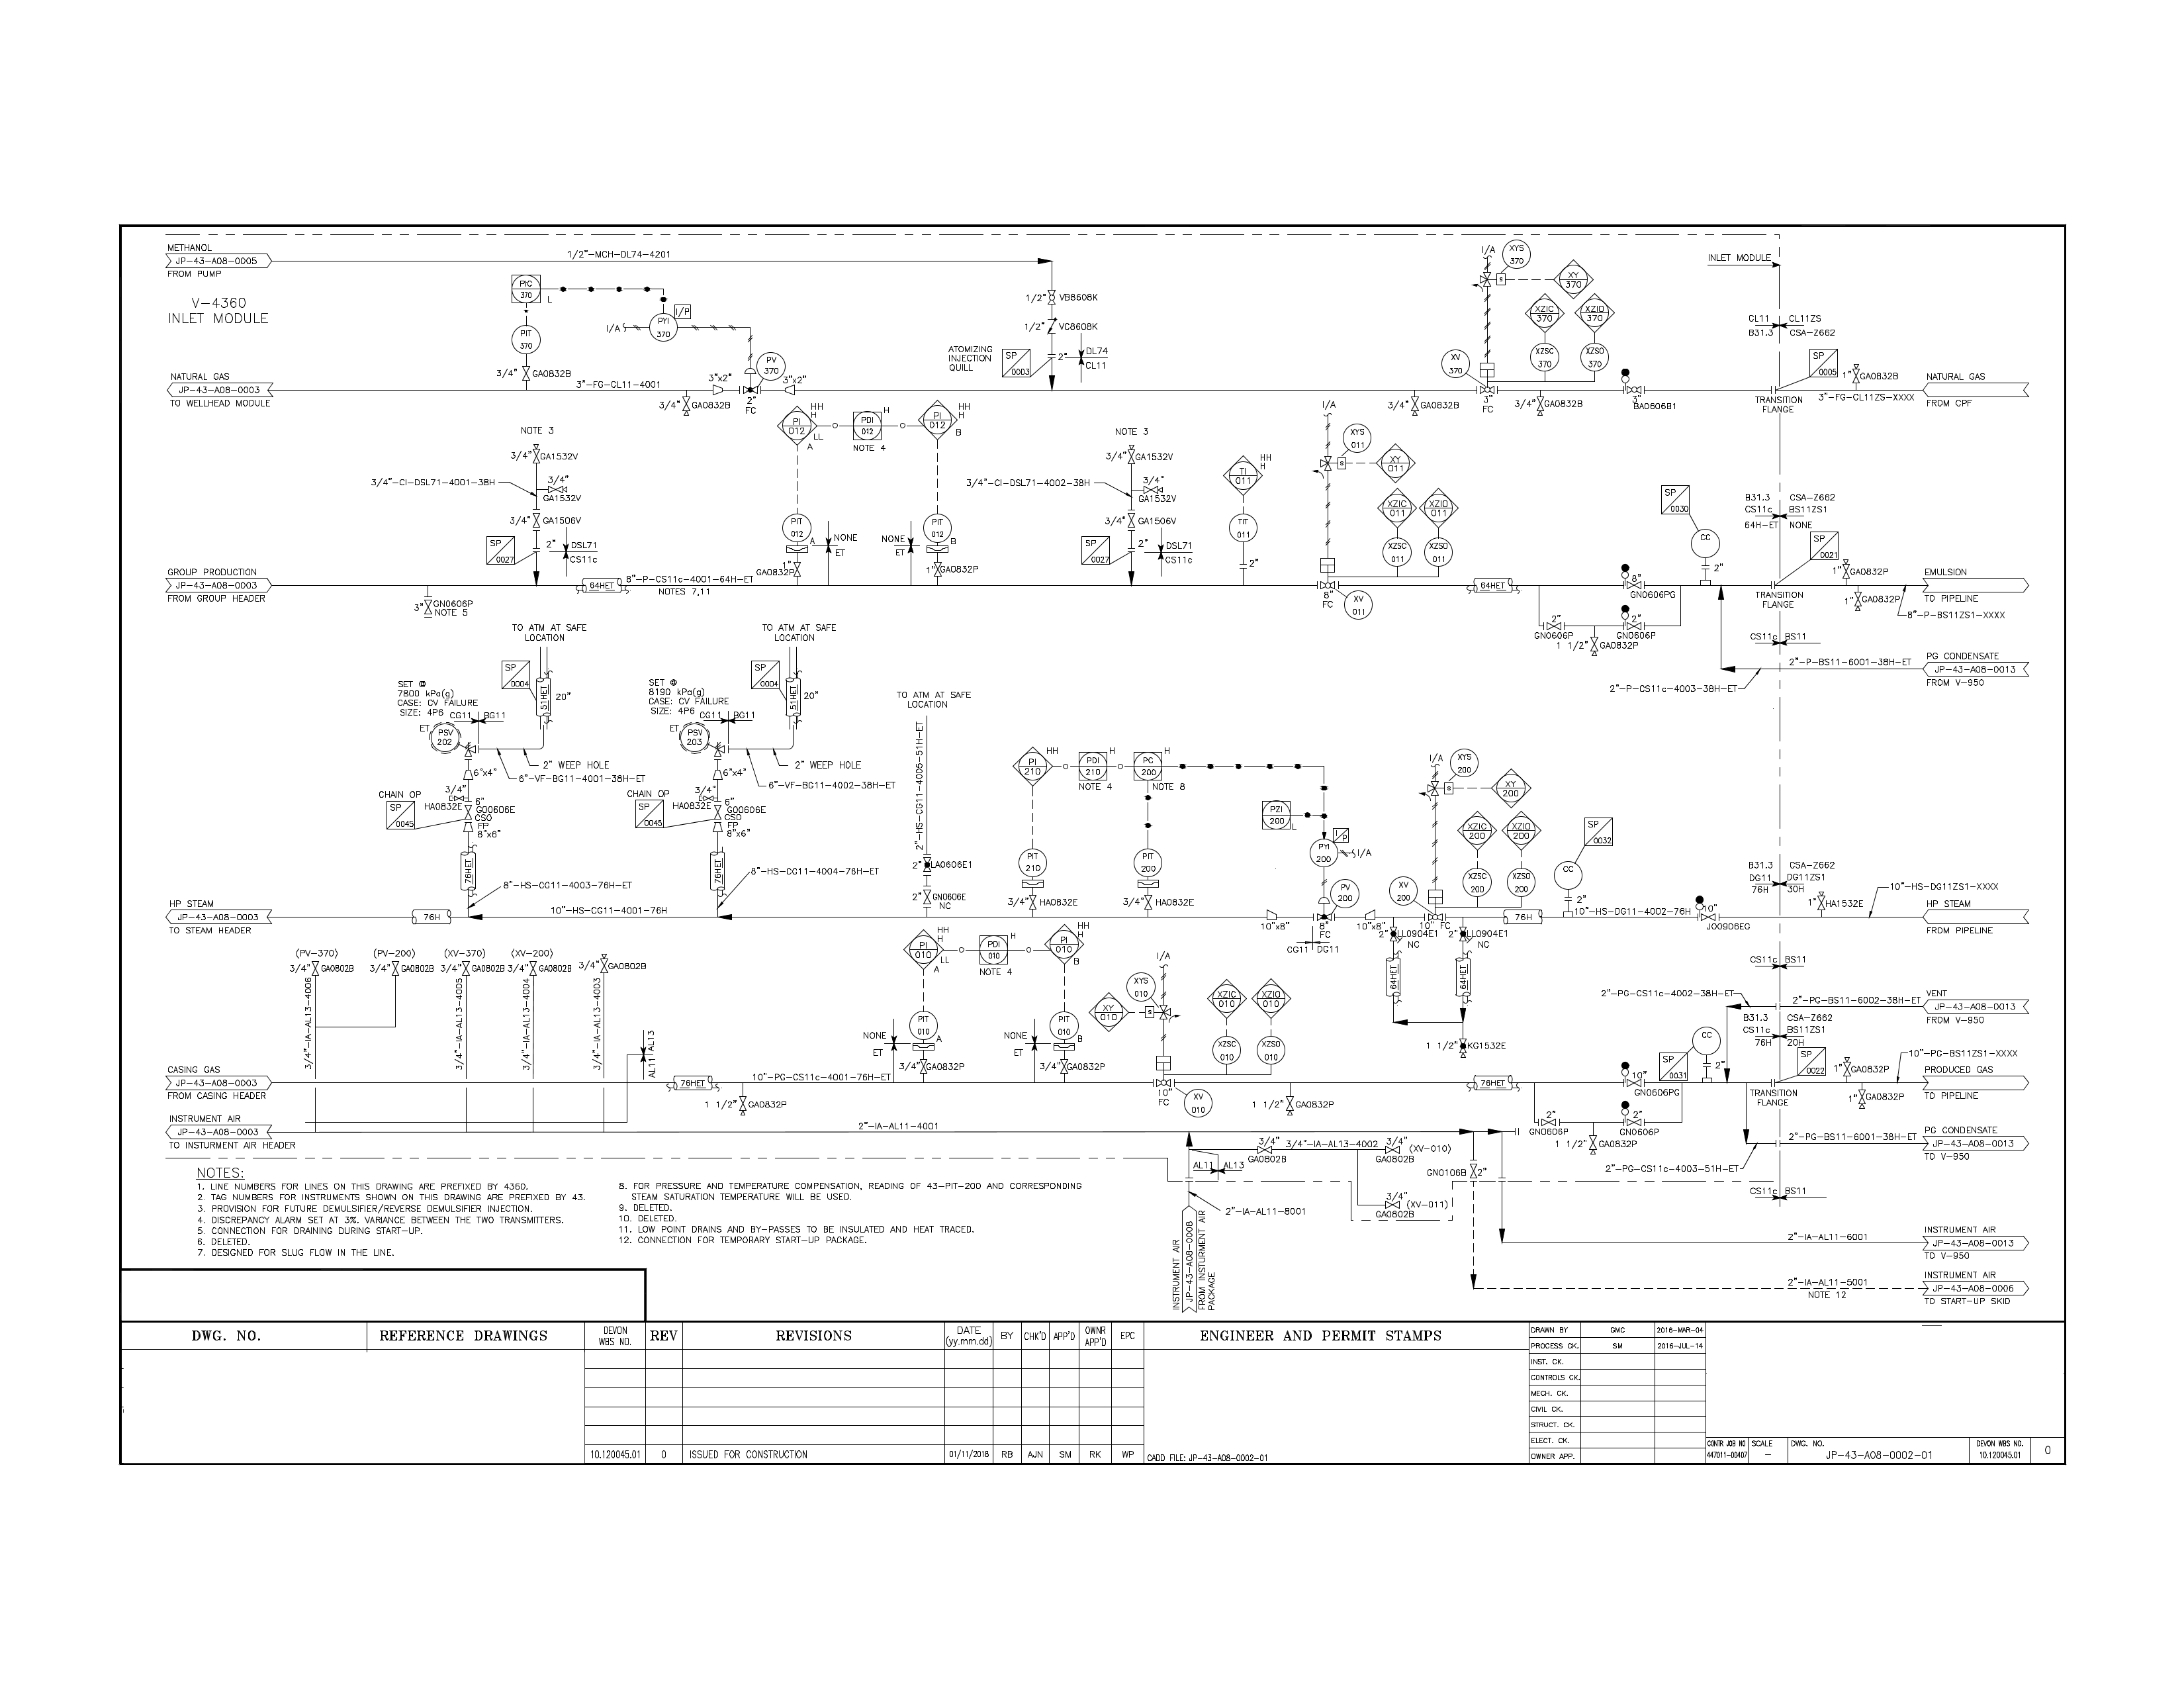Inline Instrument: (507, 323, 544, 358), (1253, 1032, 1291, 1067), (753, 349, 789, 381), (1046, 1009, 1081, 1041), (1014, 846, 1049, 878), (1182, 1087, 1218, 1119), (1423, 535, 1455, 569), (1342, 420, 1374, 454), (1439, 346, 1471, 379), (1530, 340, 1562, 374), (1579, 340, 1611, 374), (1209, 1034, 1243, 1066), (645, 314, 681, 344), (782, 512, 817, 543), (677, 723, 713, 754), (920, 512, 956, 543), (1225, 512, 1260, 543), (1383, 535, 1413, 571), (1122, 972, 1158, 1002), (429, 723, 463, 754), (1344, 589, 1374, 622), (1501, 238, 1532, 271), (1330, 876, 1360, 910), (1462, 865, 1493, 899), (1507, 867, 1537, 901), (1388, 874, 1418, 908), (1129, 848, 1163, 878), (908, 1009, 938, 1043), (1308, 837, 1338, 869)
Panel Instrument: (1076, 746, 1110, 784), (509, 273, 542, 309), (851, 408, 883, 445), (1133, 746, 1165, 784), (1260, 798, 1292, 835)
